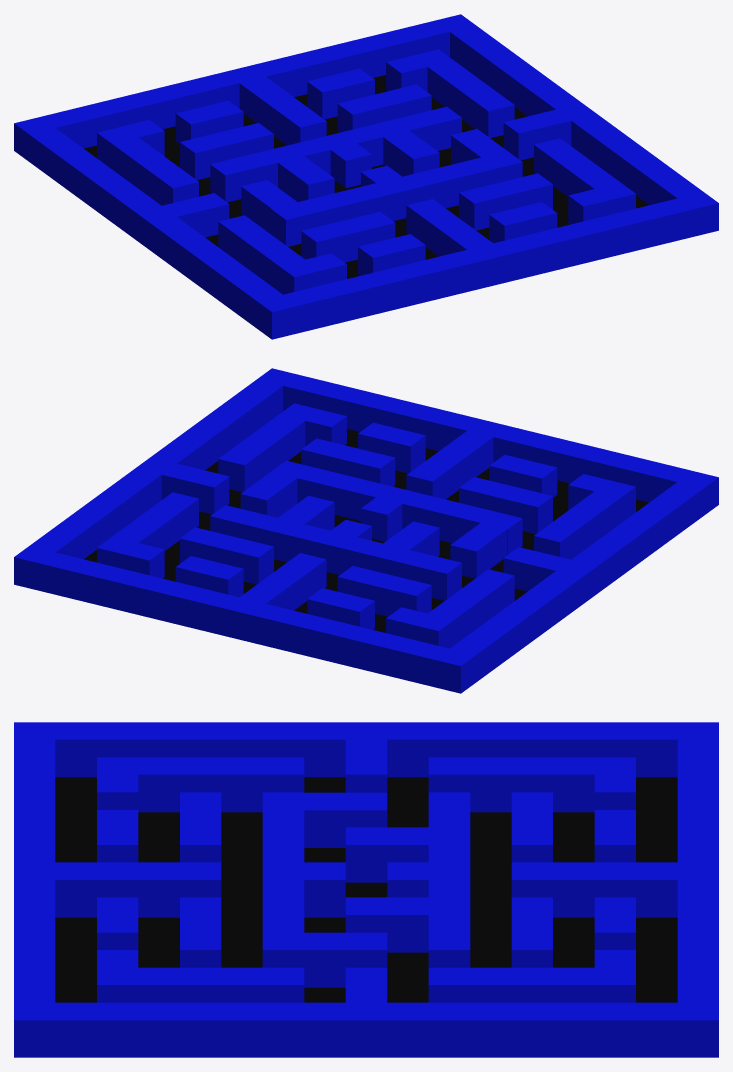
The model's file is pacman_maze.dae.
3 renders of one model, top to bottom at view 1: azimuth 30°, elevation 25°; view 2: azimuth 150°, elevation 25°; view 3: azimuth 270°, elevation 25°, orthographic. The views are drawn at different scales.
Visible parts, largest first — view 1: Cube.012, Cube.002, Cube.023, Cube.024, Cube.009, Cube.003, Cube.025, Plane, Cube.020, Cube.018, Cube.027, Cube.008 (+21 smaller); view 2: Cube.002, Cube.012, Cube.023, Cube.024, Cube.003, Cube.009, Cube.020, Plane, Cube.025, Cube.027, Cube.018, Cube.015 (+21 smaller); view 3: Plane, Cube.024, Cube.023, Cube.012, Cube.002, Cube.025, Cube.020, Cube.008, Cube.015, Cube.009, Cube.003, Cube.027 (+21 smaller).
Part boxes in pixels (box(x1,y1,x2,y2)): Cube.012: box(257, 192, 718, 339); Cube.002: box(14, 14, 475, 161); Cube.023: box(29, 128, 282, 328); Cube.024: box(450, 25, 703, 205); Cube.009: box(271, 151, 522, 246); Cube.003: box(210, 106, 461, 202); Cube.025: box(218, 215, 320, 294); Plane: box(84, 75, 648, 278); Cube.020: box(97, 126, 198, 205); Cube.018: box(413, 49, 514, 138); Cube.027: box(534, 138, 635, 214); Cube.008: box(239, 76, 326, 145); Cube.002: box(14, 546, 475, 693); Cube.012: box(257, 368, 718, 515); Cube.023: box(450, 482, 703, 682); Cube.024: box(29, 379, 282, 559); Cube.003: box(210, 505, 461, 600); Cube.009: box(271, 460, 522, 554); Cube.020: box(412, 569, 514, 648); Plane: box(84, 429, 648, 632); Cube.025: box(534, 480, 635, 559); Cube.027: box(218, 403, 319, 492); Cube.018: box(97, 492, 198, 568); Cube.015: box(406, 430, 493, 499); Plane: box(55, 777, 677, 1002); Cube.024: box(55, 1002, 677, 1057); Cube.023: box(55, 722, 677, 777); Cube.012: box(14, 722, 55, 1057); Cube.002: box(677, 722, 718, 1057); Cube.025: box(97, 757, 304, 812); Cube.020: box(428, 757, 635, 812); Cube.008: box(511, 862, 677, 917); Cube.015: box(55, 862, 221, 917); Cube.009: box(262, 792, 304, 967); Cube.003: box(428, 792, 470, 967); Cube.027: box(97, 967, 304, 1002).
Bounding box in the file's own units: 34 × 34 × 2.
